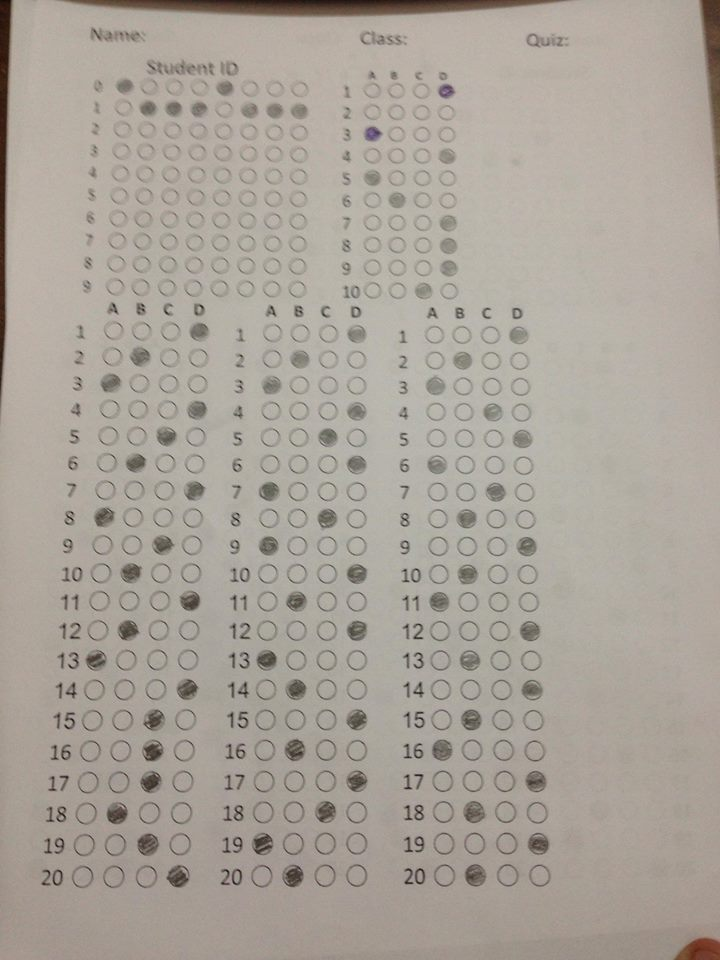not-c: (526, 861, 554, 888), (282, 799, 307, 826), (72, 832, 97, 857), (103, 864, 127, 890), (281, 831, 306, 855), (345, 864, 369, 889), (184, 425, 208, 449), (169, 832, 193, 856), (71, 865, 95, 889), (494, 833, 519, 856), (497, 863, 520, 888), (97, 398, 123, 420), (159, 320, 183, 343), (100, 345, 124, 368), (187, 346, 210, 370), (128, 371, 151, 395), (97, 424, 121, 447), (86, 618, 109, 642), (171, 770, 195, 793), (104, 833, 127, 857), (135, 865, 158, 889), (284, 709, 308, 732), (251, 800, 274, 824), (519, 649, 543, 672), (491, 678, 514, 702), (431, 830, 454, 854), (110, 738, 132, 763), (138, 800, 160, 825), (430, 802, 455, 824), (495, 799, 517, 824), (158, 346, 181, 369), (177, 618, 200, 641), (81, 709, 104, 732), (283, 770, 306, 793), (483, 453, 506, 476), (462, 738, 485, 761), (493, 739, 516, 762), (181, 507, 205, 529), (77, 771, 99, 795), (315, 649, 339, 671), (314, 833, 338, 855), (250, 866, 274, 888), (428, 678, 452, 700), (430, 707, 452, 731), (524, 738, 546, 762), (527, 802, 548, 827), (435, 863, 456, 888), (102, 319, 125, 341), (130, 320, 153, 342), (154, 452, 177, 474), (152, 506, 175, 528), (150, 562, 172, 585), (180, 562, 202, 585), (146, 648, 168, 671), (177, 648, 199, 671), (111, 709, 134, 731), (173, 739, 195, 762), (75, 802, 97, 825), (316, 455, 339, 477), (347, 679, 369, 702), (255, 708, 277, 731), (346, 738, 368, 761), (345, 801, 368, 823), (346, 834, 368, 857), (313, 864, 336, 886), (515, 508, 537, 531), (432, 770, 454, 793), (186, 373, 210, 394), (148, 618, 169, 642), (286, 480, 310, 501), (510, 403, 534, 424), (489, 651, 513, 672), (455, 537, 480, 557), (262, 188, 284, 210), (127, 398, 149, 420), (126, 424, 148, 446), (184, 453, 206, 475), (84, 679, 106, 701), (174, 708, 196, 730), (289, 426, 311, 448), (347, 508, 369, 530), (315, 534, 337, 556), (254, 739, 276, 761), (315, 740, 337, 762), (509, 351, 531, 373), (494, 771, 516, 793), (157, 373, 180, 394), (153, 479, 176, 500), (108, 772, 129, 795), (171, 801, 192, 824), (346, 650, 369, 671), (317, 708, 338, 731), (454, 454, 477, 475), (512, 455, 535, 476), (488, 592, 511, 613), (458, 621, 479, 644), (488, 622, 511, 643), (522, 710, 545, 731), (235, 255, 259, 275), (513, 482, 537, 502), (457, 592, 481, 612), (464, 832, 484, 856), (213, 143, 235, 164), (97, 451, 118, 473), (122, 506, 144, 527), (121, 535, 143, 556), (89, 563, 111, 584), (89, 590, 111, 611), (113, 679, 135, 700), (145, 679, 166, 701), (80, 740, 101, 762), (348, 426, 369, 448), (259, 454, 281, 475), (288, 455, 310, 476), (316, 563, 338, 584), (254, 772, 275, 794), (317, 771, 338, 793), (492, 709, 513, 731), (161, 120, 184, 140), (185, 210, 208, 230), (208, 256, 231, 276), (236, 211, 259, 231), (285, 564, 308, 584), (317, 619, 337, 642), (427, 536, 450, 556), (428, 562, 448, 585), (519, 590, 539, 613), (234, 279, 258, 298), (131, 276, 152, 297), (160, 164, 181, 185), (95, 479, 116, 500), (92, 535, 113, 556), (118, 590, 139, 611), (149, 591, 170, 612), (115, 650, 136, 671), (346, 482, 367, 503), (287, 508, 308, 529), (317, 591, 338, 612), (256, 620, 277, 641), (462, 772, 483, 793), (107, 254, 129, 274), (157, 254, 179, 274), (238, 144, 260, 164), (237, 189, 259, 209), (157, 399, 179, 419), (259, 508, 279, 530), (286, 652, 308, 672), (427, 428, 447, 450), (482, 428, 504, 448), (427, 508, 449, 528), (487, 537, 507, 559), (516, 563, 538, 583), (429, 620, 449, 642), (164, 77, 187, 96), (289, 144, 312, 163), (255, 593, 278, 612), (453, 323, 472, 346), (426, 483, 449, 502), (139, 77, 160, 97), (133, 231, 154, 251), (156, 277, 177, 297), (186, 233, 207, 253), (184, 278, 204, 299), (211, 234, 232, 254), (288, 256, 309, 276), (124, 480, 145, 500), (182, 534, 202, 555), (425, 351, 446, 371), (454, 377, 474, 398), (511, 377, 532, 397), (455, 428, 476, 448), (487, 565, 508, 585), (461, 679, 481, 700), (288, 212, 310, 231), (289, 376, 311, 395), (288, 401, 310, 420), (286, 537, 308, 556), (286, 620, 305, 642), (456, 483, 478, 502), (486, 509, 508, 528), (429, 651, 451, 670), (236, 234, 259, 252), (189, 121, 209, 141), (135, 185, 155, 205), (160, 209, 180, 229), (262, 256, 282, 276), (318, 323, 338, 343), (258, 564, 278, 584), (256, 680, 276, 700), (290, 79, 311, 98), (110, 185, 129, 206), (133, 209, 154, 228), (212, 189, 233, 208), (209, 279, 230, 298), (265, 144, 284, 165), (262, 280, 283, 299), (288, 234, 309, 253), (289, 189, 310, 208), (263, 348, 282, 369), (319, 350, 340, 369), (347, 350, 368, 369), (319, 375, 338, 396), (260, 428, 281, 447), (346, 537, 367, 556), (317, 680, 338, 699), (426, 403, 447, 422), (136, 142, 158, 160), (183, 255, 205, 273), (261, 324, 283, 342), (262, 399, 280, 421), (190, 78, 210, 97), (241, 79, 261, 98), (266, 79, 286, 98), (136, 120, 156, 139), (238, 122, 258, 141), (266, 123, 286, 142), (290, 123, 310, 142), (160, 187, 180, 206), (187, 166, 207, 185), (213, 166, 232, 186), (212, 211, 231, 231), (287, 280, 307, 299), (438, 282, 458, 301), (291, 323, 311, 342), (349, 376, 369, 395), (482, 351, 501, 371), (483, 378, 503, 397), (161, 143, 182, 161), (238, 167, 259, 185), (290, 167, 311, 185), (113, 119, 132, 138), (106, 277, 125, 296), (136, 164, 155, 183), (439, 168, 458, 187), (387, 168, 406, 187), (364, 281, 383, 300), (347, 593, 366, 612), (426, 324, 445, 343), (454, 403, 473, 422), (109, 210, 129, 228), (107, 232, 127, 250), (132, 256, 152, 274), (159, 233, 179, 251), (187, 189, 207, 207), (264, 168, 284, 186), (263, 234, 283, 252), (363, 147, 383, 165), (387, 259, 407, 277), (389, 282, 409, 300), (318, 483, 338, 501), (482, 327, 502, 345), (361, 82, 382, 99), (317, 403, 338, 420), (215, 122, 233, 141), (112, 143, 131, 161), (111, 164, 130, 182), (189, 144, 207, 163), (263, 212, 282, 230), (362, 103, 381, 121), (414, 214, 433, 232), (363, 236, 382, 254), (114, 99, 134, 116), (412, 82, 432, 99), (413, 170, 433, 187), (388, 236, 408, 253), (215, 101, 233, 119), (387, 103, 406, 120), (413, 103, 432, 120), (437, 104, 456, 121), (388, 147, 407, 164), (438, 192, 457, 209), (364, 214, 383, 231), (413, 148, 433, 164), (413, 192, 433, 208), (388, 82, 406, 99), (414, 126, 431, 144), (414, 237, 432, 254), (364, 259, 382, 276), (414, 260, 433, 276), (438, 126, 455, 143), (389, 214, 406, 231), (364, 192, 382, 208), (389, 126, 406, 142)
taken-c: (520, 768, 550, 798), (343, 617, 371, 646), (133, 768, 165, 793), (517, 621, 545, 649), (83, 646, 109, 676), (181, 478, 208, 506), (174, 677, 202, 704), (463, 860, 490, 887), (164, 861, 190, 889), (88, 502, 117, 527), (136, 831, 160, 860), (346, 397, 370, 426), (462, 800, 489, 825), (249, 832, 277, 856), (429, 738, 454, 764), (126, 451, 150, 478), (282, 589, 309, 613), (138, 737, 163, 762), (343, 564, 368, 589), (155, 423, 179, 449), (142, 707, 166, 733), (282, 863, 306, 889), (516, 534, 540, 560), (318, 508, 341, 535), (523, 832, 551, 854), (345, 767, 369, 792), (257, 479, 282, 503), (346, 453, 370, 478), (347, 322, 371, 347), (117, 618, 140, 644), (312, 798, 335, 824), (282, 738, 308, 761), (347, 707, 368, 735), (318, 427, 342, 451), (522, 679, 546, 703), (459, 707, 482, 732), (457, 506, 480, 531), (425, 454, 450, 477), (482, 401, 505, 426), (285, 677, 308, 701), (255, 649, 278, 673), (512, 430, 537, 452), (450, 349, 472, 374), (177, 590, 201, 612), (258, 534, 282, 556), (460, 651, 484, 673), (424, 373, 448, 395), (106, 802, 127, 827), (505, 325, 530, 346), (186, 397, 208, 420), (148, 532, 171, 554), (259, 373, 281, 396), (289, 349, 311, 372), (121, 562, 142, 586), (414, 279, 435, 302), (98, 372, 122, 392), (486, 481, 506, 505), (429, 591, 449, 614), (454, 564, 477, 584), (439, 258, 461, 278), (128, 346, 151, 365), (439, 213, 460, 233), (115, 76, 135, 96), (264, 101, 284, 121), (387, 190, 407, 209), (188, 321, 209, 339), (290, 101, 308, 121), (364, 169, 384, 187), (439, 146, 458, 164), (239, 101, 259, 118), (437, 238, 458, 254), (165, 100, 183, 118), (364, 124, 382, 142), (216, 76, 233, 95), (438, 80, 455, 99), (140, 100, 157, 117), (190, 102, 208, 118)
